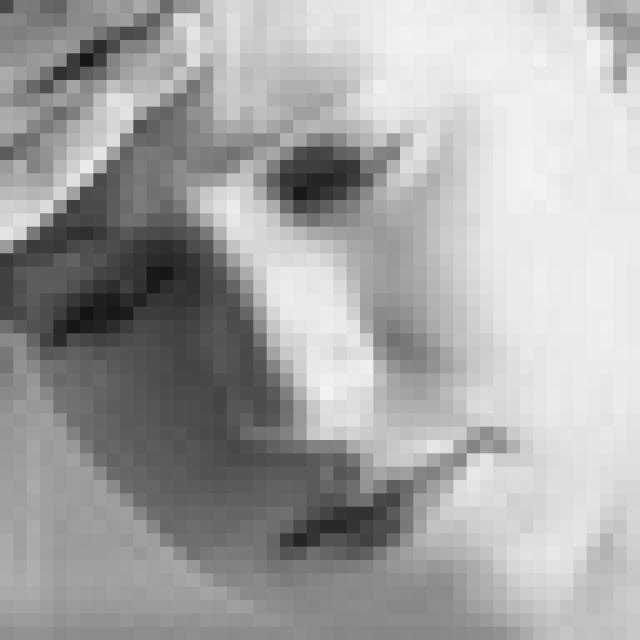sad: (0, 70, 540, 566)
